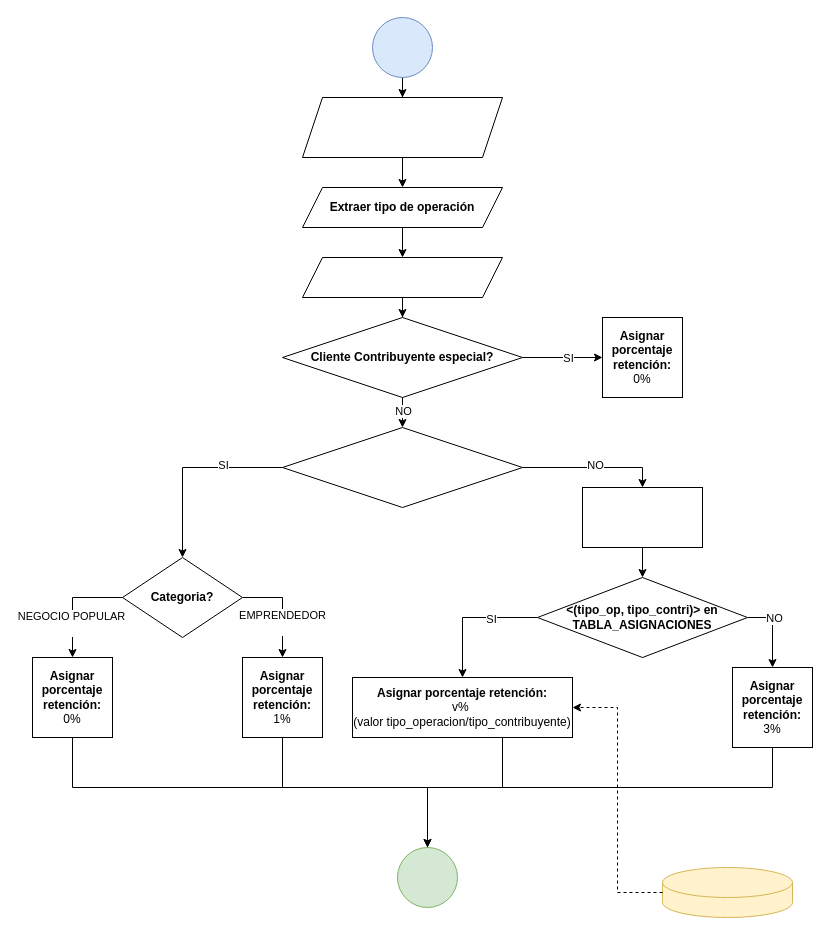
Some shapes in this 830 by 935 pixel diagram are drawn without their labels. Each missing label, with the box of its shape:
Asignar tipo_operación: (582, 486, 702, 548)
Cliente RIMPE?: (282, 426, 522, 508)
Extraer información de proveedor y cliente: (302, 96, 502, 158)
Extraer porcentaje de IVA: (302, 256, 502, 298)
TABLA_ASIGNACIONES: (662, 866, 792, 918)
